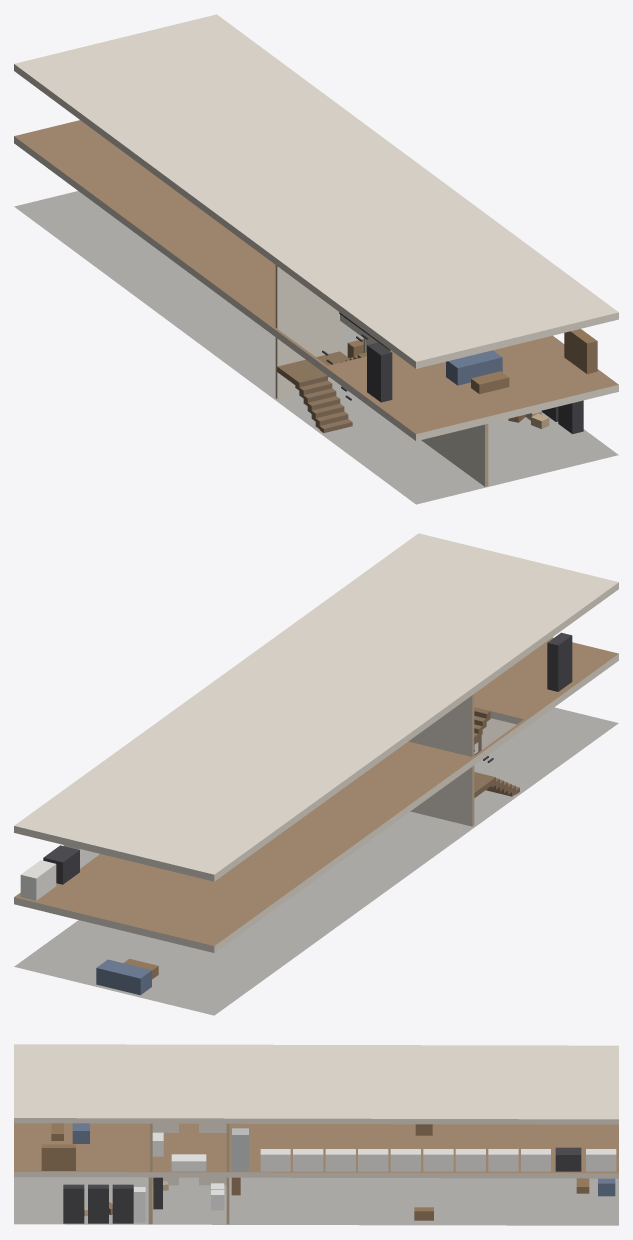
Rendered from interior.glb.
3 views of the same model, one above another, from view 1: azimuth 30°, elevation 25°; view 2: azimuth 150°, elevation 25°; view 3: azimuth 270°, elevation 25° (orthographic). The views are drawn at different scales.
Visible parts, largest first — view 1: slabs, partitions, coarse-s1, stair, coarse-s0; view 2: slabs, partitions, coarse-s1, coarse-s0, stair; view 3: slabs, coarse-s1, coarse-s0, partitions.
Boxes of the visible parts, <box> form: slabs: <box>14,14,618,504</box>; partitions: <box>275,265,488,486</box>; coarse-s1: <box>367,329,597,402</box>; stair: <box>277,312,390,432</box>; coarse-s0: <box>347,339,583,434</box>; slabs: <box>14,533,618,1015</box>; partitions: <box>408,694,516,826</box>; coarse-s1: <box>20,632,572,900</box>; coarse-s0: <box>96,958,158,995</box>; stair: <box>474,707,519,797</box>; slabs: <box>14,1044,618,1225</box>; coarse-s1: <box>41,1123,616,1171</box>; coarse-s0: <box>63,1177,615,1223</box>; partitions: <box>148,1123,229,1224</box>.
Bounding box in the file's own units: 7.92 × 5.25 × 26.96.
